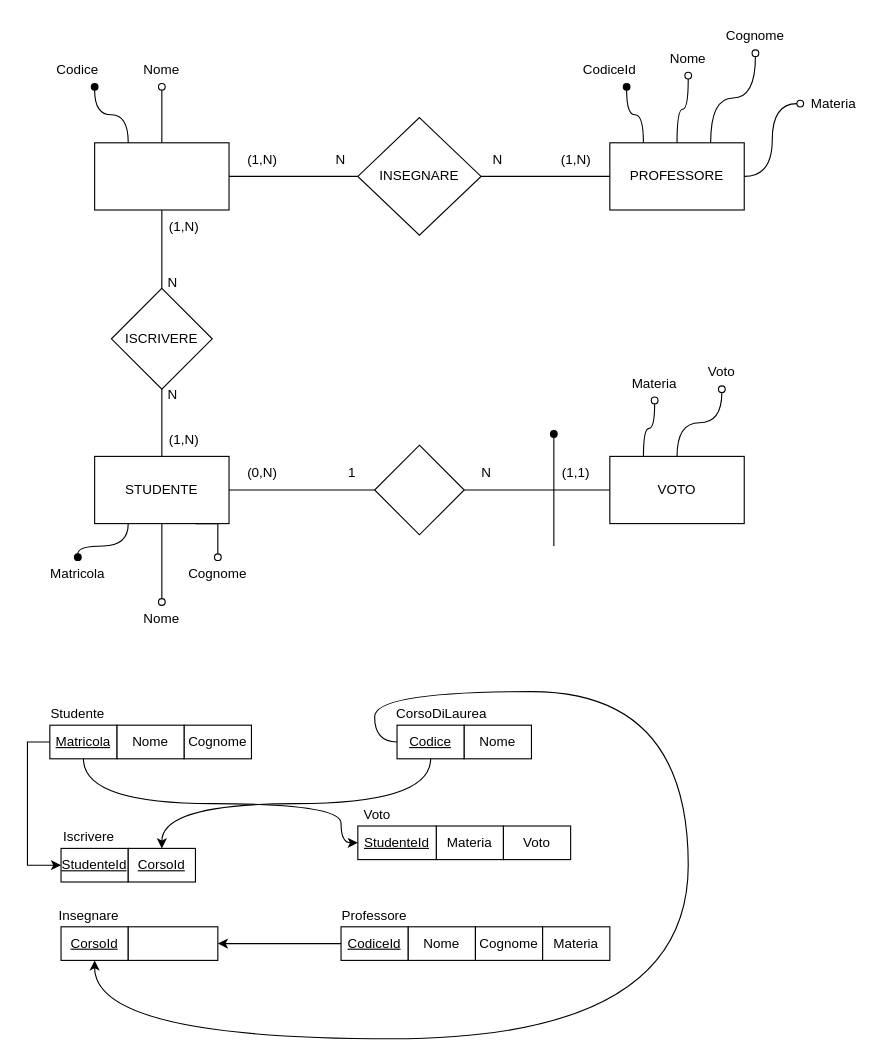
Some shapes in this 887 by 1058 pixel diagram are drawn without their labels. Each missing label, with the centre of its shape:
"CORSO DI LAUREA" belongs at (x=161, y=176).
"ProfessoreId" belongs at (x=172, y=943).
"RICEVERE" belongs at (x=419, y=489).
